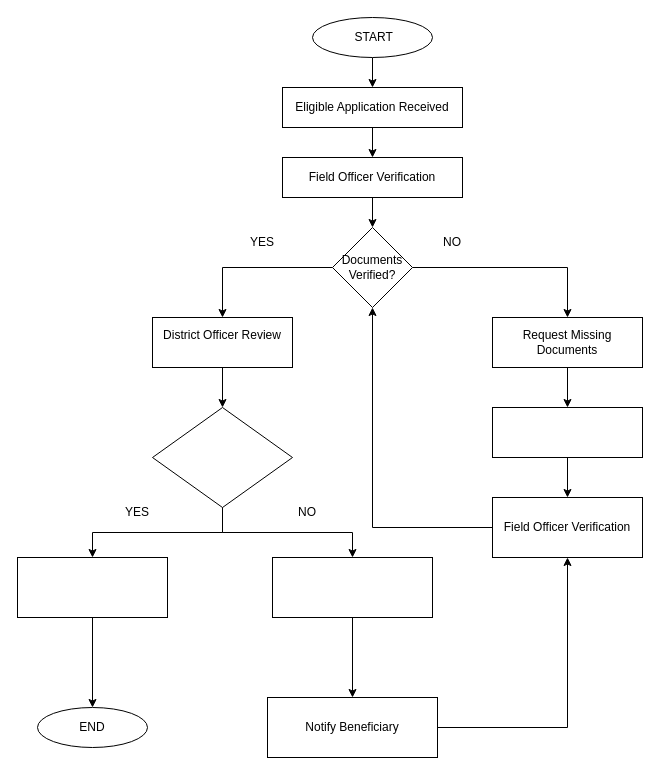
This 660x775 diagram has some shape labels left out. Here are the shapes that lost their labels. From the top down, the centre of each, then its label:
the point at 567,432: Beneficiary Resubmits
the point at 222,457: District Officer Approves Application?
the point at 92,587: Forward to Finance Officer for Approval
the point at 352,587: Return Application for Correction
